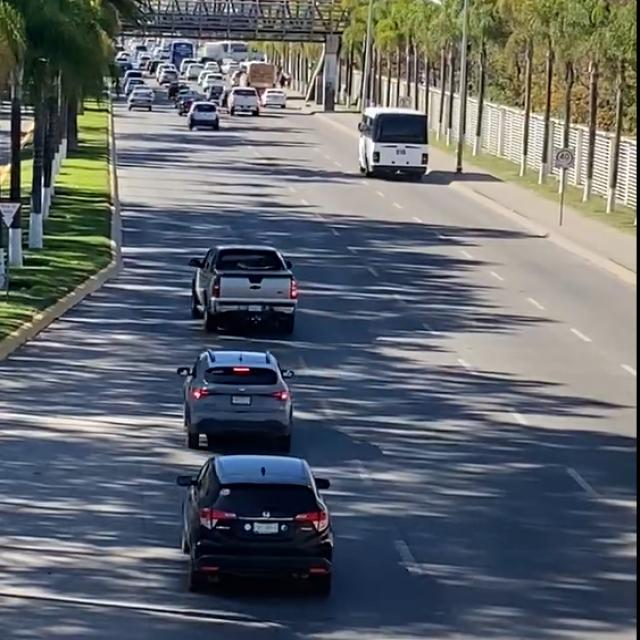Auto: (176, 456, 336, 600), (180, 349, 296, 454), (188, 244, 298, 338), (357, 107, 429, 181)
